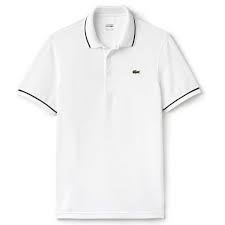S_polo shirt: (20, 11, 203, 220)
